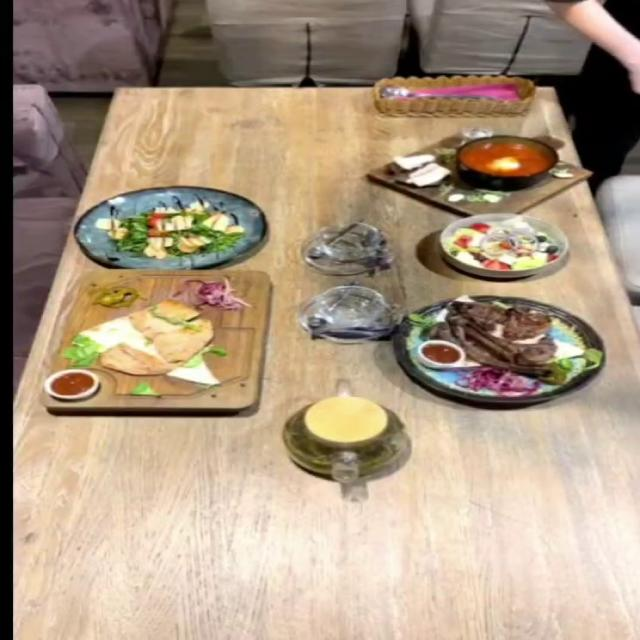meat: (390, 294, 606, 404)
salat: (72, 185, 264, 268), (438, 212, 570, 276)
soup: (366, 128, 592, 217)
tea: (280, 393, 408, 483)
